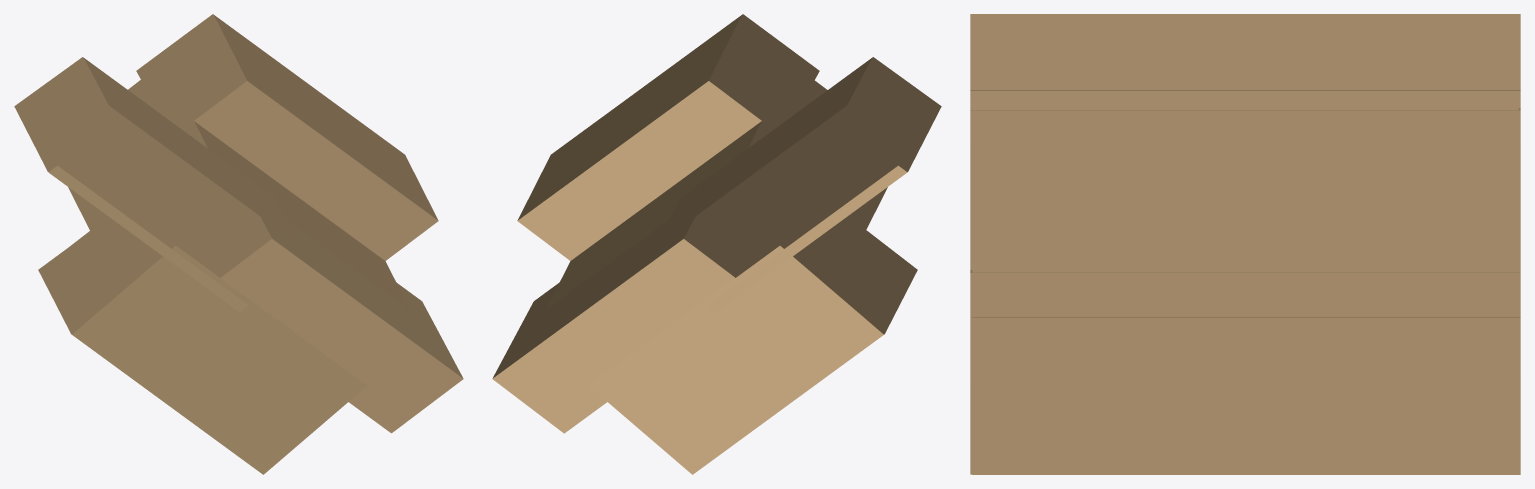
3 renders of one model, left to right at view 1: azimuth 30°, elevation 25°; view 2: azimuth 150°, elevation 25°; view 3: azimuth 270°, elevation 25°, orthographic. The views are drawn at different scales.
Parts seen in each view (by area): view 1: 0_1_0_2_1_2_2_3_2; view 2: 0_1_0_2_1_2_2_3_2; view 3: 0_1_0_2_1_2_2_3_2.
Part boxes in pixels (<box>): 0_1_0_2_1_2_2_3_2: <box>14,14,463,474</box>; 0_1_0_2_1_2_2_3_2: <box>492,14,941,474</box>; 0_1_0_2_1_2_2_3_2: <box>970,14,1520,474</box>.
Size of the model in its own units: 20.94 by 22.22 by 27.1.
